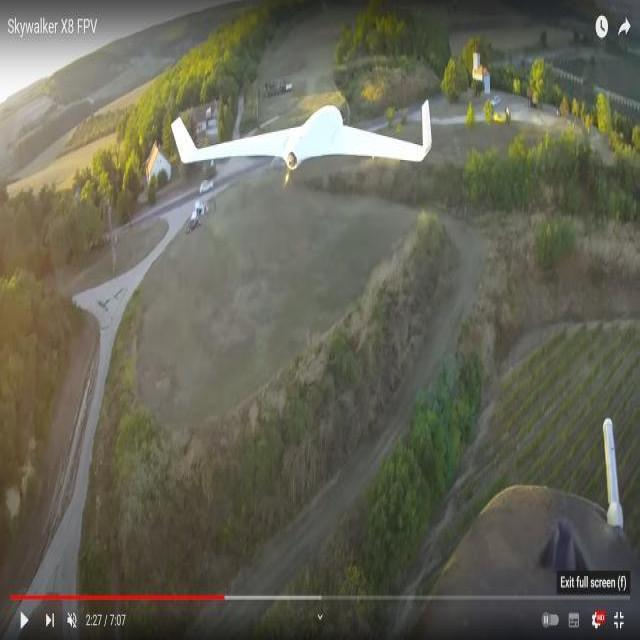UAV: (169, 72, 411, 182)
